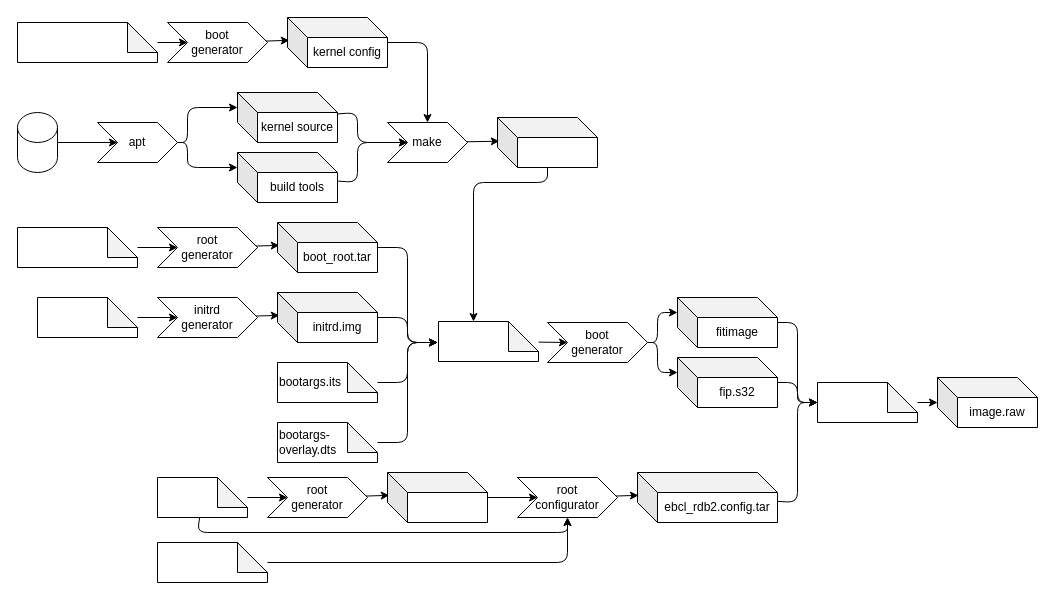
Image size: 1055x600. Some labels were removed from this diagram. The centre of each missing label's shape, as x and y in pixels:
"apt repo" belongs at (37,142).
"boot.yaml" belongs at (488,341).
"boot_root.yaml" belongs at (77,247).
"config_root.sh" belongs at (212,562).
"ebcl_rdb2.tar" belongs at (437,497).
"image.yaml" belongs at (867,402).
"initrd.yaml" belongs at (87,317).
"kernel_config.yaml" belongs at (87,42).
"root.yaml" belongs at (202,497).
"vmlinuz" belongs at (547,142).
